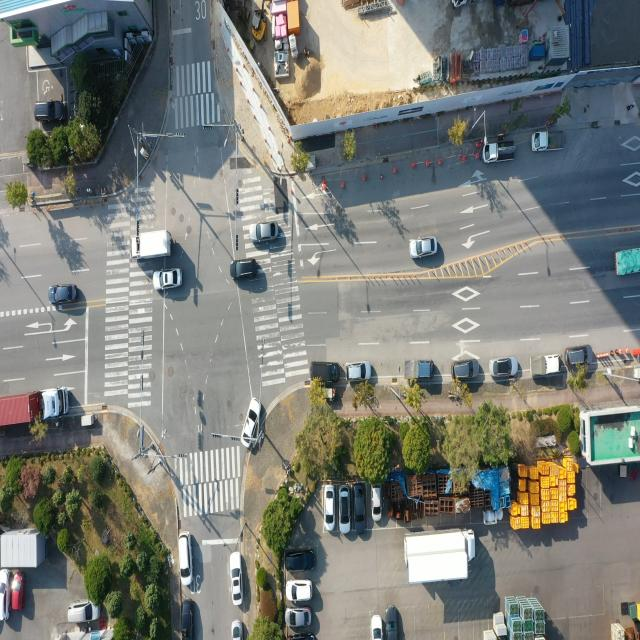car: (242, 397, 261, 448), (68, 601, 100, 627), (32, 97, 64, 122), (312, 359, 343, 384), (286, 551, 316, 575), (50, 282, 80, 306), (179, 534, 192, 586), (249, 220, 279, 242), (490, 356, 518, 379), (154, 269, 183, 291), (232, 554, 244, 606), (353, 485, 366, 533), (232, 259, 259, 282), (452, 358, 479, 381), (410, 238, 438, 260), (565, 346, 593, 368), (346, 359, 372, 382), (11, 572, 25, 614), (341, 486, 353, 532), (288, 582, 314, 603), (286, 610, 312, 630), (324, 486, 335, 532), (0, 569, 9, 621), (386, 606, 398, 640), (182, 598, 192, 638), (370, 486, 380, 520), (371, 616, 382, 640), (234, 620, 244, 640)
large_truck: (0, 388, 67, 431)
medium_truck: (404, 529, 477, 586), (131, 231, 173, 262), (615, 248, 640, 276)
small_truck: (530, 353, 562, 377), (404, 357, 436, 381), (482, 141, 516, 163), (531, 131, 564, 153)
